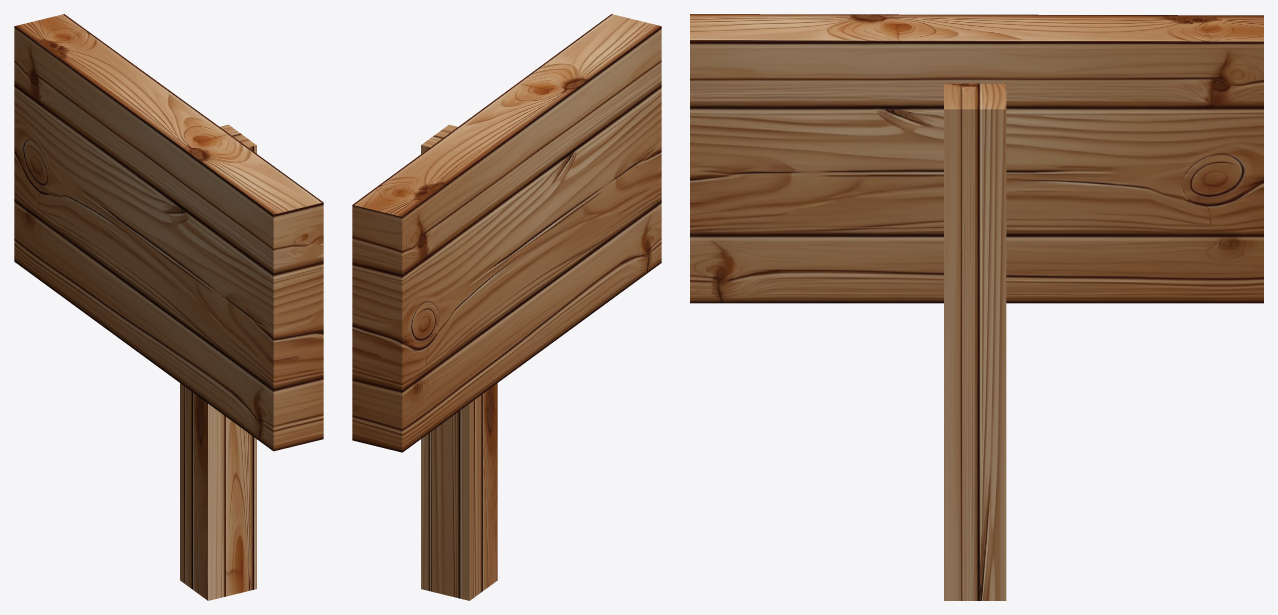
The model's file is wooden sign.gltf.
3 views of the same model, side by side, from view 1: azimuth 30°, elevation 25°; view 2: azimuth 150°, elevation 25°; view 3: azimuth 270°, elevation 25° (orthographic). The views are drawn at different scales.
Visible parts, largest first — view 1: leg; view 2: leg; view 3: leg.
Boxes of the visible parts, x1,y1,x2,y2 form: leg: [14, 14, 323, 600]; leg: [352, 14, 661, 600]; leg: [690, 14, 1263, 600].
Size of the model in its own units: 0.2739 by 1.29 by 1.26.
Materials: 1 (1 with a texture image).
